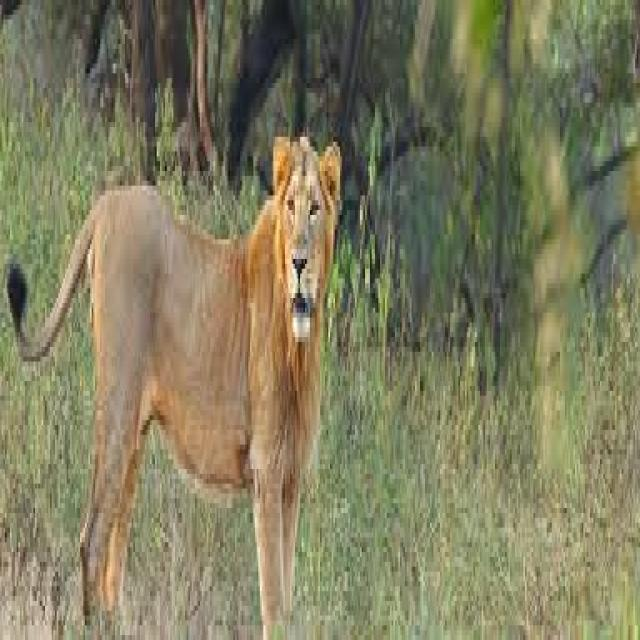Lion: (7, 130, 344, 639)
